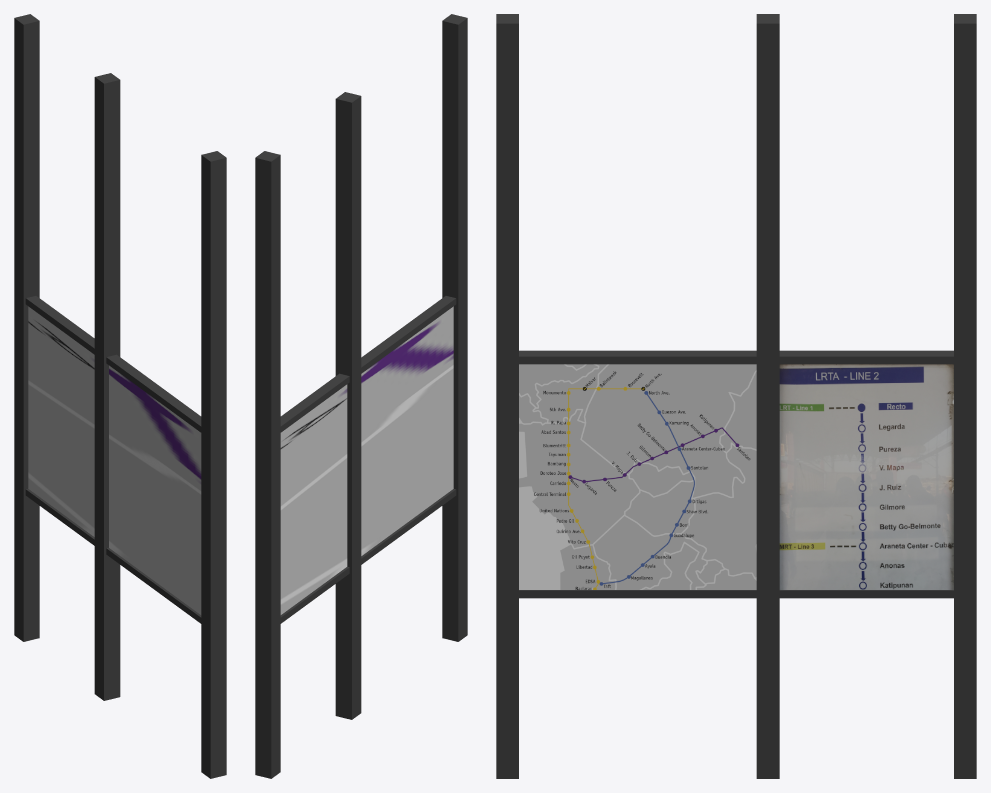
Rendered from Prop_InfoBoard.fbx.
The picture shows the model from 3 angles, left to right: view 1: azimuth 30°, elevation 25°; view 2: azimuth 150°, elevation 25°; view 3: azimuth 270°, elevation 25°; orthographic projection. The views are drawn at different scales.
Parts seen in each view (by area): view 1: Information_Board.001; view 2: Information_Board.001; view 3: Information_Board.001.
Part boxes in pixels (x1=…): Information_Board.001: x1=14, y1=14, x2=226, y2=778; Information_Board.001: x1=255, y1=14, x2=467, y2=778; Information_Board.001: x1=496, y1=14, x2=976, y2=778.
Bounding box in the file's own units: 41.84 × 1525 × 879.
3 materials, 3 textured.
